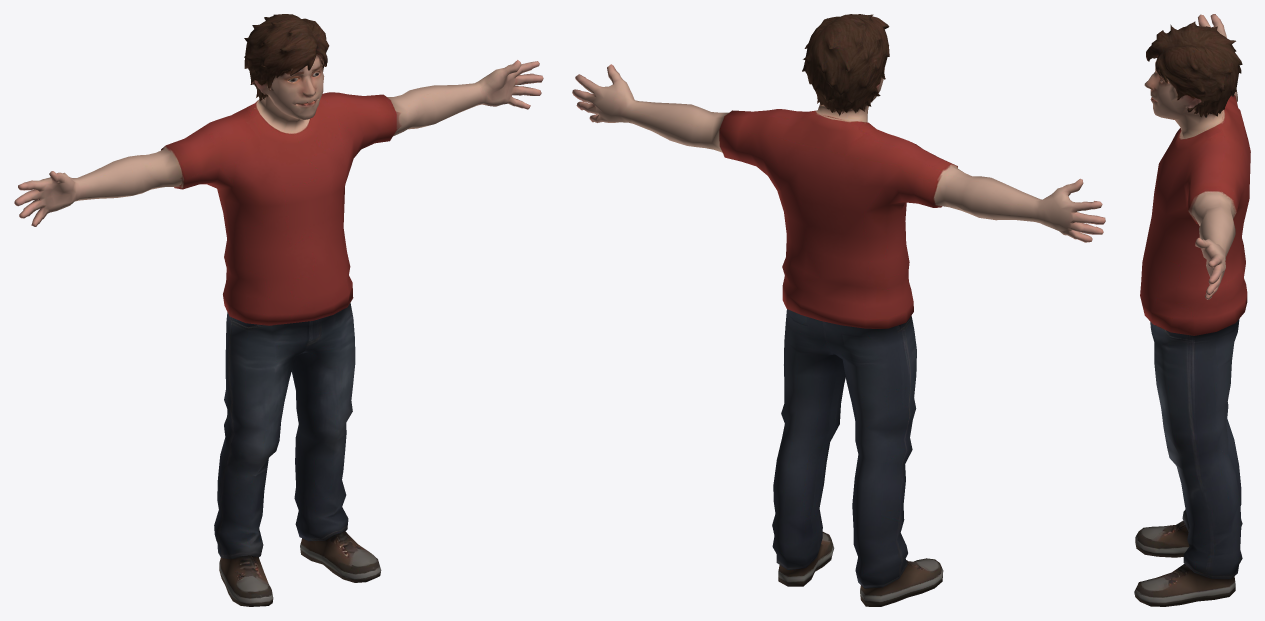
The model's file is eli.glb.
The picture shows the model from 3 angles, left to right: view 1: azimuth 30°, elevation 25°; view 2: azimuth 150°, elevation 25°; view 3: azimuth 270°, elevation 25°; orthographic projection. The views are drawn at different scales.
Visible parts, largest first — view 1: Red Shirt Geek; view 2: Red Shirt Geek; view 3: Red Shirt Geek.
Part boxes in pixels (bbox=[...]): Red Shirt Geek: bbox=[14, 14, 543, 606]; Red Shirt Geek: bbox=[572, 14, 1105, 606]; Red Shirt Geek: bbox=[1134, 14, 1250, 606].
Bounding box in the file's own units: 0.9863 × 0.998 × 0.1934.
Materials: 1 (1 with a texture image).
